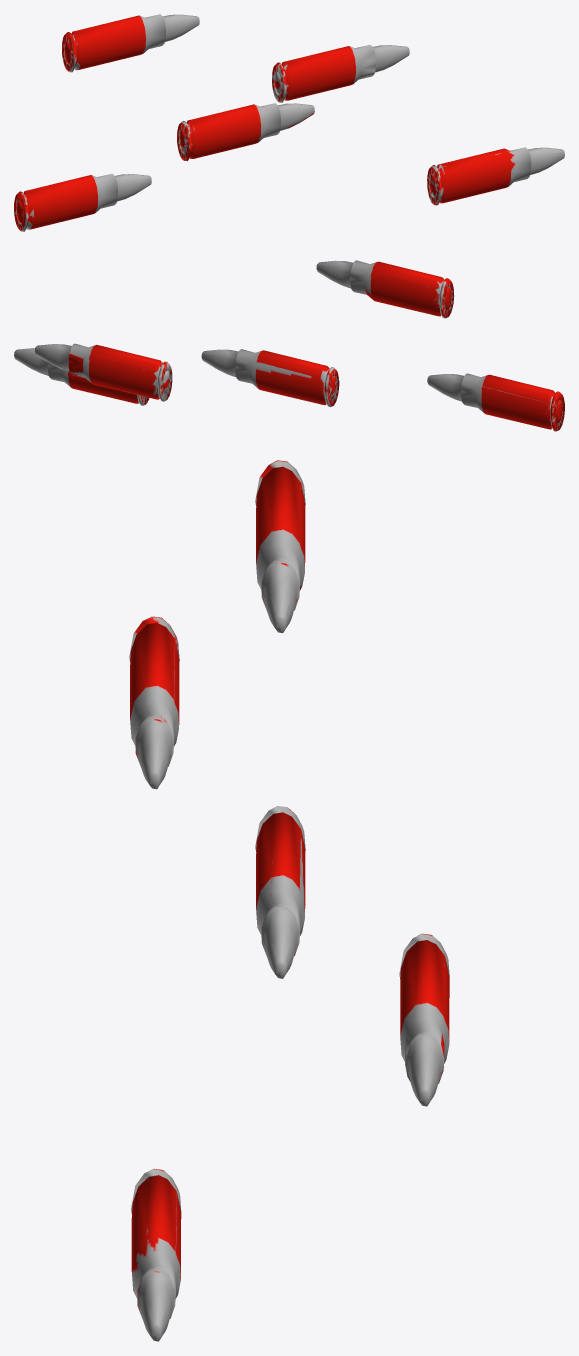
File: balas.obj
3 renders of one model, top to bottom at view 1: azimuth 30°, elevation 25°; view 2: azimuth 150°, elevation 25°; view 3: azimuth 270°, elevation 25°, orthographic. The views are drawn at different scales.
Visible parts, largest first — view 1: Bullet:Mesh.002; view 2: Bullet:Mesh.002; view 3: Bullet:Mesh.002.
Part boxes in pixels (left/top/right/bottom): Bullet:Mesh.002: left=14, top=14, right=564, bottom=231; Bullet:Mesh.002: left=14, top=260, right=564, bottom=431; Bullet:Mesh.002: left=129, top=460, right=449, bottom=1341.
Size of the model in its own units: 4.09 by 1.66 by 1.04.
1 material, 1 textured.
